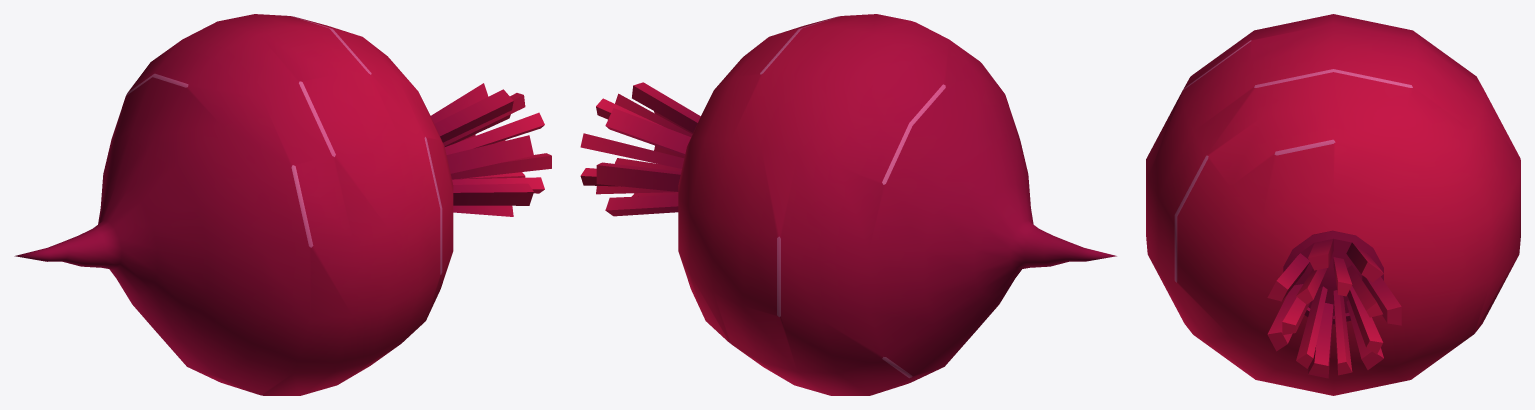
File: Beetroot.fbx
The picture shows the model from 3 angles, left to right: view 1: azimuth 30°, elevation 25°; view 2: azimuth 150°, elevation 25°; view 3: azimuth 270°, elevation 25°; orthographic projection.
Visible parts, largest first — view 1: Beetroot; view 2: Beetroot; view 3: Beetroot.
Part boxes in pixels (x1=…): Beetroot: x1=14, y1=14, x2=551, y2=395; Beetroot: x1=580, y1=14, x2=1116, y2=395; Beetroot: x1=1146, y1=14, x2=1520, y2=395.
Bounding box in the file's own units: 0.7874 × 0.5097 × 0.4968.
1 material, 1 textured.
